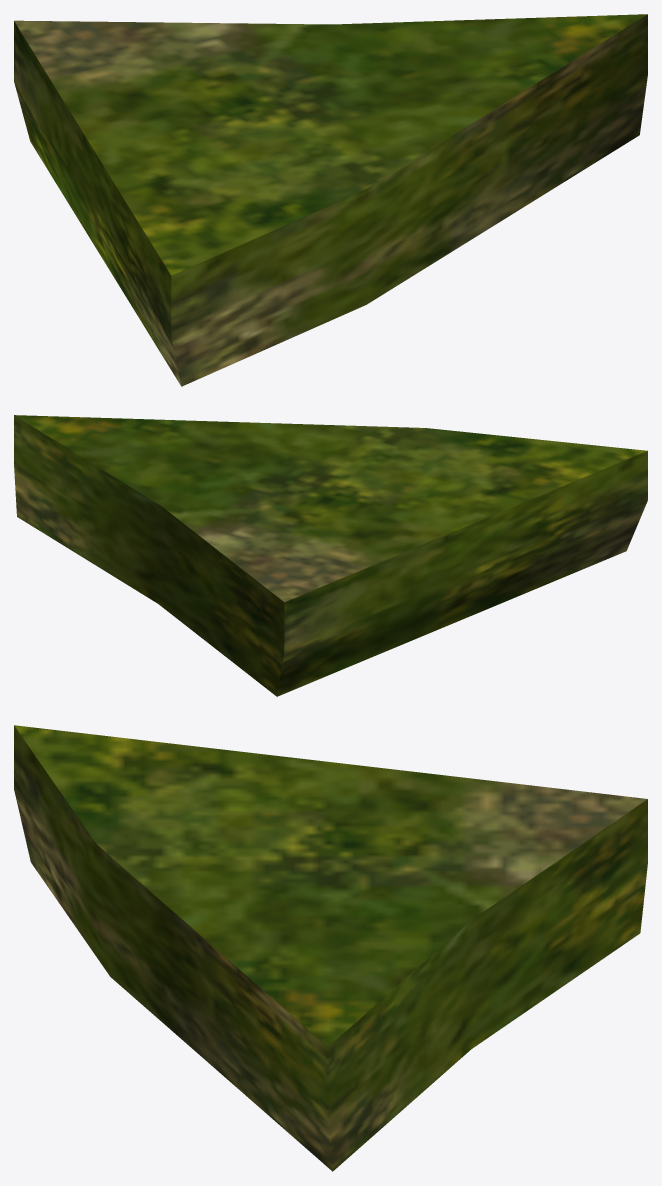
The model's file is ANIMATEDINSTANCES_ROOF_FALL_05__AI.fbx.
The picture shows the model from 3 angles, top to bottom: view 1: azimuth 30°, elevation 25°; view 2: azimuth 150°, elevation 25°; view 3: azimuth 270°, elevation 25°; orthographic projection. The views are drawn at different scales.
Visible parts, largest first — view 1: ANIMATEDINSTANCES_ROOF_FALL_05__AI; view 2: ANIMATEDINSTANCES_ROOF_FALL_05__AI; view 3: ANIMATEDINSTANCES_ROOF_FALL_05__AI.
Part boxes in pixels (box(x1,y1,x2,y2)): ANIMATEDINSTANCES_ROOF_FALL_05__AI: box(14, 14, 647, 386); ANIMATEDINSTANCES_ROOF_FALL_05__AI: box(14, 415, 647, 696); ANIMATEDINSTANCES_ROOF_FALL_05__AI: box(14, 725, 647, 1171).
Size of the model in its own units: 13502 by 2500 by 11242.
1 material, 1 textured.
